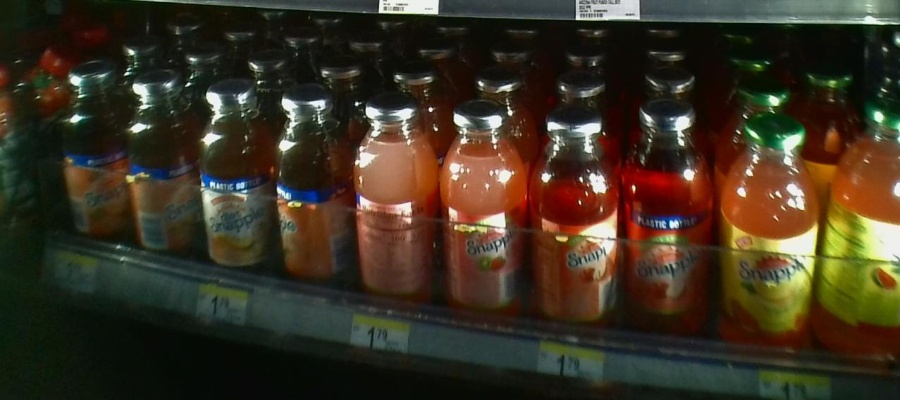bottle: (715, 105, 814, 352), (623, 98, 715, 345), (529, 106, 621, 328), (822, 103, 900, 360), (440, 104, 529, 323), (353, 95, 440, 310), (274, 80, 350, 294), (124, 57, 195, 268), (197, 75, 271, 277), (59, 55, 123, 248)
